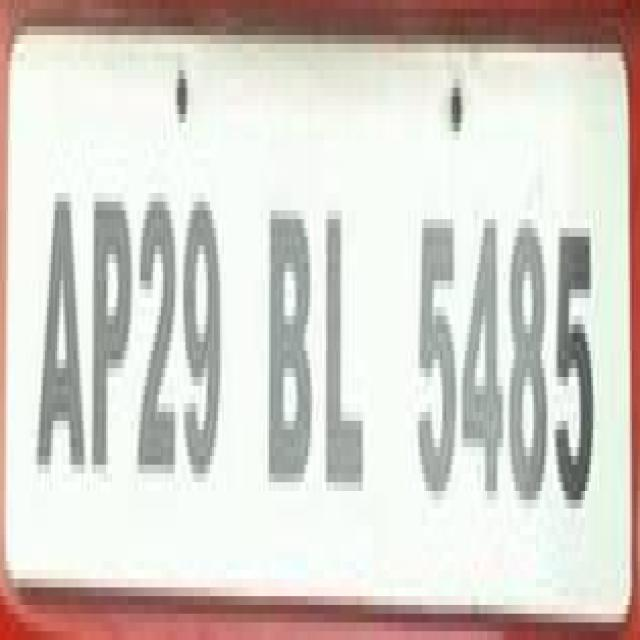license_plate: (22, 9, 640, 640)
